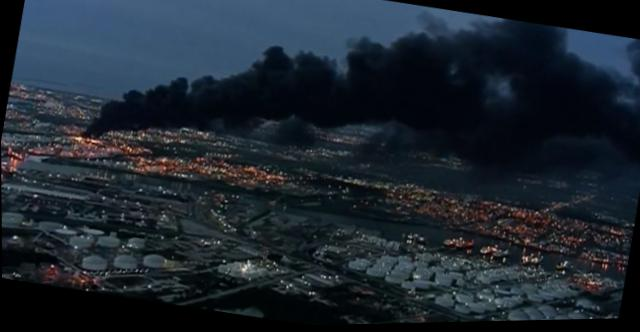smoke: (456, 16, 558, 171), (72, 61, 217, 161), (408, 19, 480, 138), (279, 43, 363, 142), (537, 50, 621, 140), (212, 42, 290, 134), (352, 30, 414, 133), (607, 101, 639, 163), (622, 41, 640, 98)
